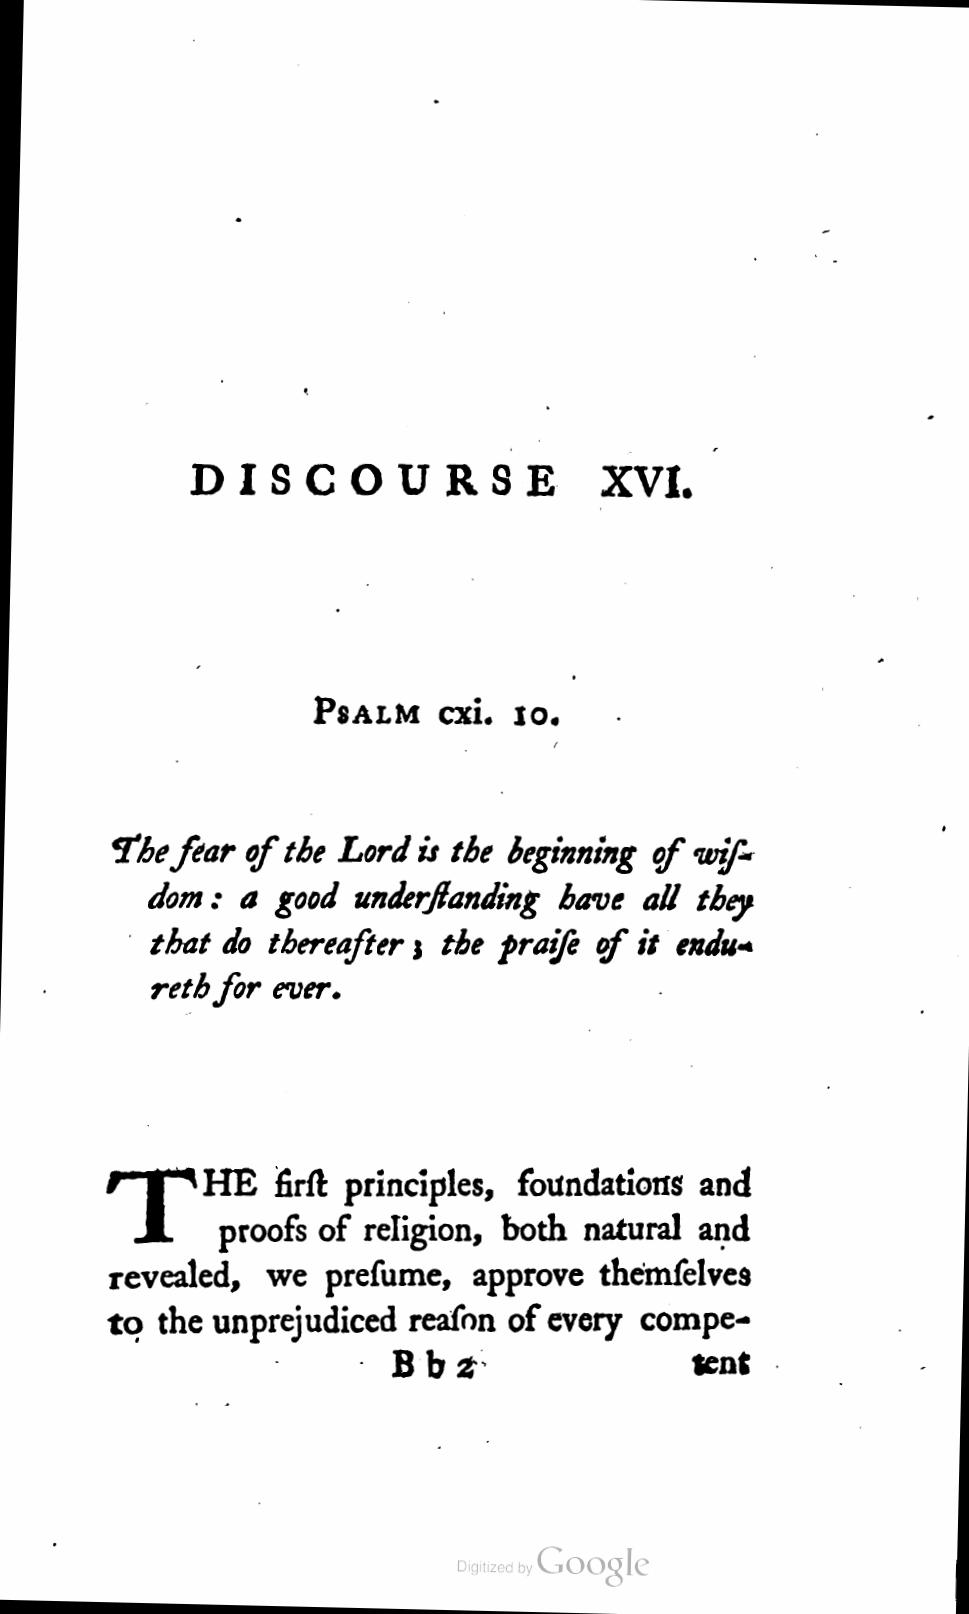bottom_p: (103, 1162, 755, 1344)
catchword: (689, 1351, 754, 1378)
full_p: (109, 829, 763, 1012), (184, 457, 698, 506), (308, 692, 567, 732)
initial_l: (104, 1166, 200, 1245)
signature: (388, 1347, 478, 1382)
